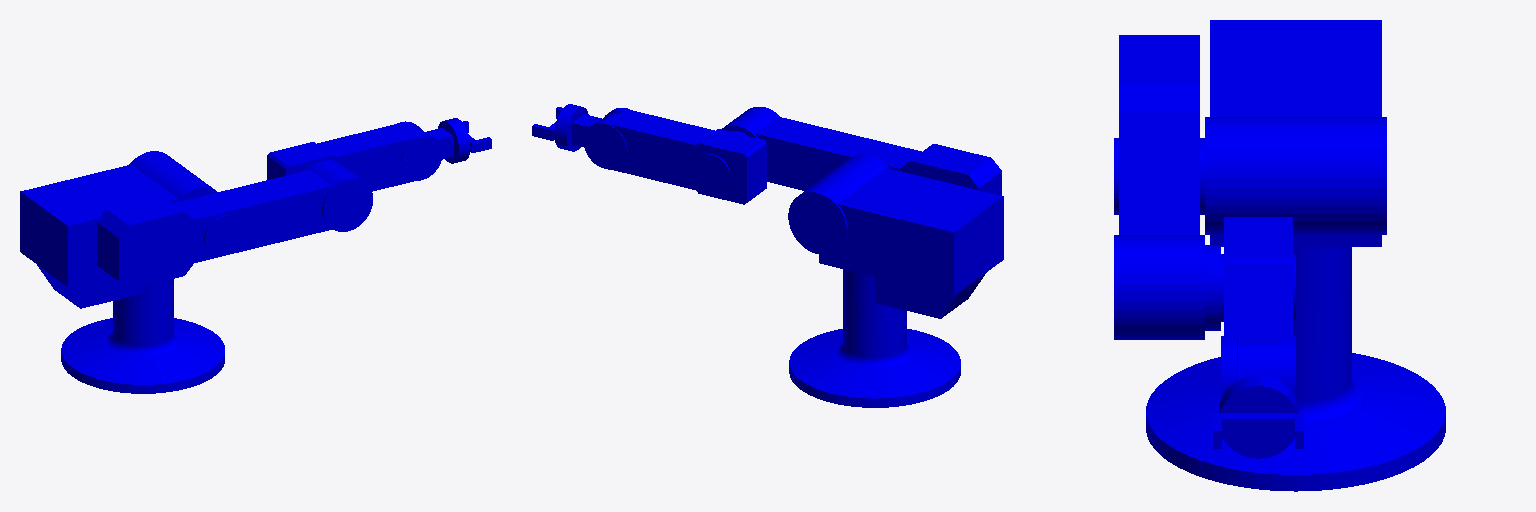
The robot description file, URDF, robot "ur_er9":
<?xml version="1.0" ?>
<!-- =================================================================================== -->
<!-- |    This document was autogenerated by xacro from [local-path]/er9-ros-workspace/src/ur_er9_support/er9.xacro | -->
<!-- |    EDITING THIS FILE BY HAND IS NOT RECOMMENDED                                 | -->
<!-- =================================================================================== -->
<robot name="ur_er9" xmlns:xacro="http://www.ros.org/wiki/xacro">
    <link name="base_link">
        <visual>
            <geometry>
                <mesh filename="package://ur_er9_support/meshes/visual/base.stl" />
            </geometry>
            <material name="">
                <color rgba="0 0 1 1" />
            </material>
            <origin rpy="0 0 0" xyz="0 0 0" />
        </visual>
        <collision>
            <geometry>
                <mesh filename="package://ur_er9_support/meshes/visual/base.stl" />
            </geometry>
            <origin rpy="0 0 0" xyz="0 0 0" />
        </collision>

<inertial>
            <mass value="0.1" />
            <inertia ixx="0.03" iyy="0.03" izz="0.03" ixy="0.0" ixz="0.0" iyz="0.0" />
        </inertial>

    </link>
    <link name="link1">
        <visual>
            <geometry>
                <mesh filename="package://ur_er9_support/meshes/visual/link1.stl" />
            </geometry>
            <material name="">
                <color rgba="0 0 1 1" />
            </material>
            <origin rpy="0 0 0" xyz="0 0 0" />
        </visual>
        <collision>
            <geometry>
                <mesh filename="package://ur_er9_support/meshes/visual/link1.stl" />
            </geometry>
            <origin rpy="0 0 0" xyz="0 0 0" />
        </collision>

<inertial>
            <mass value="0.1" />
            <inertia ixx="0.03" iyy="0.03" izz="0.03" ixy="0.0" ixz="0.0" iyz="0.0" />
        </inertial>

    </link>
    <joint name="joint1" type="revolute">
        <axis xyz="0 0 1" />
        <limit effort="1000.0" lower="-4.36332312999" upper="4.36332312999" velocity="1.0" />
        <origin rpy="0 0 0" xyz="0 0 0.174" />
        <parent link="base_link" />
        <child link="link1" />
    </joint>
    <link name="link2">
        <visual>
            <geometry>
                <mesh filename="package://ur_er9_support/meshes/visual/link2.stl" />
            </geometry>
            <material name="">
                <color rgba="0 0 1 1" />
            </material>
            <origin rpy="0 0 0" xyz="0 0 0" />
        </visual>
        <collision>
            <geometry>
                <mesh filename="package://ur_er9_support/meshes/visual/link2.stl" />
            </geometry>
            <origin rpy="0 0 0" xyz="0 0 0" />
        </collision>

<inertial>
            <mass value="0.1" />
            <inertia ixx="0.03" iyy="0.03" izz="0.03" ixy="0.0" ixz="0.0" iyz="0.0" />
        </inertial>

    </link>
    <joint name="joint2" type="revolute">
        <axis xyz="0 1 0" />
        <limit effort="1000.0" lower="-2.61799387799" upper="1.0471975512" velocity="1.0" />
        <origin rpy="0 0 0" xyz="0.07 -0.1 0.164" />
        <parent link="link1" />
        <child link="link2" />
    </joint>
    <link name="link3">
        <visual>
            <geometry>
                <mesh filename="package://ur_er9_support/meshes/visual/link3.stl" />
            </geometry>
            <material name="">
                <color rgba="0 0 1 1" />
            </material>
            <origin rpy="0 0 0" xyz="0 0 0" />
        </visual>
        <collision>
            <geometry>
                <mesh filename="package://ur_er9_support/meshes/visual/link3.stl" />
            </geometry>
            <origin rpy="0 0 0" xyz="0 0 0" />
        </collision>

<inertial>
            <mass value="0.1" />
            <inertia ixx="0.03" iyy="0.03" izz="0.03" ixy="0.0" ixz="0.0" iyz="0.0" />
        </inertial>

    </link>
    <joint name="joint3" type="revolute">
        <axis xyz="0 1 0" />
        <limit effort="1000.0" lower="-3.92699081699" upper="3.92699081699" velocity="1.0" />
        <origin rpy="0 0 0" xyz="0.290 0.018 0" />
        <parent link="link2" />
        <child link="link3" />
    </joint>
    <link name="link4">
        <visual>
            <geometry>
                <mesh filename="package://ur_er9_support/meshes/visual/link4.stl" />
            </geometry>
            <material name="">
                <color rgba="0 0 1 1" />
            </material>
            <origin rpy="0 0 0" xyz="0 0 0" />
        </visual>
        <collision>
            <geometry>
                <mesh filename="package://ur_er9_support/meshes/visual/link4.stl" />
            </geometry>
            <origin rpy="0 0 0" xyz="0 0 0" />
        </collision>

<inertial>
            <mass value="0.1" />
            <inertia ixx="0.03" iyy="0.03" izz="0.03" ixy="0.0" ixz="0.0" iyz="0.0" />
        </inertial>

    </link>
    <joint name="joint4" type="revolute">
        <axis xyz="0 1 0" />
        <limit effort="1000.0" lower="-3.14159265359" upper="3.14159265359" velocity="1.0" />
        <origin rpy="0 0 0" xyz="0.239 0.041 0" />
        <parent link="link3" />
        <child link="link4" />
    </joint>
    <link name="link5">
        <visual>
            <geometry>
                <mesh filename="package://ur_er9_support/meshes/visual/link5.stl" />
            </geometry>
            <material name="">
                <color rgba="0 0 1 1" />
            </material>
            <origin rpy="0 0 0" xyz="0 0 0" />
        </visual>
        <collision>
            <geometry>
                <mesh filename="package://ur_er9_support/meshes/visual/link5.stl" />
            </geometry>
            <origin rpy="0 0 0" xyz="0 0 0" />
        </collision>

<inertial>
            <mass value="0.1" />
            <inertia ixx="0.03" iyy="0.03" izz="0.03" ixy="0.0" ixz="0.0" iyz="0.0" />
        </inertial>

    </link>
    <joint name="joint5" type="revolute">
        <axis xyz="1 0 0" />
        <limit effort="1000.0" lower="-6.28318530718" upper="6.28318530718" velocity="1.0" />
        <origin rpy="0 0 0" xyz="0.111 0 0" />
        <parent link="link4" />
        <child link="link5" />
    </joint>
    <link name="tool0" />
    <link name="base" />
    <joint name="base_link-base" type="fixed">
        <origin rpy="0 0 0" xyz="0 0 0" />
        <parent link="base_link" />
        <child link="base" />
    </joint>
    <joint name="joint5-tool0" type="fixed">
        <origin rpy="0 0 0" xyz="0.045 0 0" />
        <parent link="link5" />
        <child link="tool0" />
    </joint>

<transmission name="trans_joint1">
        <type>transmission_interface/SimpleTransmission</type>
        <joint name="joint1">
            <hardwareInterface>hardware_interface/EffortJointInterface</hardwareInterface>
        </joint>
        <actuator name="joint1_motor">
            <hardwareInterface>hardware_interface/EffortJointInterface</hardwareInterface>
            <mechanicalReduction>1</mechanicalReduction>
        </actuator>
    </transmission>
    <transmission name="trans_joint2">
        <type>transmission_interface/SimpleTransmission</type>
        <joint name="joint2">
            <hardwareInterface>hardware_interface/EffortJointInterface</hardwareInterface>
        </joint>
        <actuator name="joint2_motor">
            <hardwareInterface>hardware_interface/EffortJointInterface</hardwareInterface>
            <mechanicalReduction>1</mechanicalReduction>
        </actuator>
    </transmission>
    <transmission name="trans_joint3">
        <type>transmission_interface/SimpleTransmission</type>
        <joint name="joint3">
            <hardwareInterface>hardware_interface/EffortJointInterface</hardwareInterface>
        </joint>
        <actuator name="joint3_motor">
            <hardwareInterface>hardware_interface/EffortJointInterface</hardwareInterface>
            <mechanicalReduction>1</mechanicalReduction>
        </actuator>
    </transmission>
    <transmission name="trans_joint4">
        <type>transmission_interface/SimpleTransmission</type>
        <joint name="joint4">
            <hardwareInterface>hardware_interface/EffortJointInterface</hardwareInterface>
        </joint>
        <actuator name="joint4_motor">
            <hardwareInterface>hardware_interface/EffortJointInterface</hardwareInterface>
            <mechanicalReduction>1</mechanicalReduction>
        </actuator>
    </transmission>
    <transmission name="trans_joint5">
        <type>transmission_interface/SimpleTransmission</type>
        <joint name="joint5">
            <hardwareInterface>hardware_interface/EffortJointInterface</hardwareInterface>
        </joint>
        <actuator name="joint5_motor">
            <hardwareInterface>hardware_interface/EffortJointInterface</hardwareInterface>
            <mechanicalReduction>1</mechanicalReduction>
        </actuator>
    </transmission>
    <gazebo>
        <plugin name="gazebo_ros_control" filename="libgazebo_ros_control.so">
            <robotNamespace>/</robotNamespace>
        </plugin>
    </gazebo>
</robot>

--- Render facts (derived) ---
The picture shows the robot from 3 angles, left to right: view 1: azimuth 30°, elevation 25°; view 2: azimuth 150°, elevation 25°; view 3: azimuth 270°, elevation 25°; orthographic projection.
Robot: ur_er9 — 8 links, 7 joints (5 revolute, 2 fixed); root link base_link; default pose: all joints at 0.
Links seen in each view (by area): view 1: link2, link1, base_link, link3, link4; view 2: link1, base_link, link3, link2, link4; view 3: link1, base_link, link2, link3, link4, link5.
Link boxes in pixels (x1,y1,x2,y2): link2: (97, 160, 372, 288); link1: (20, 151, 216, 308); base_link: (61, 282, 224, 393); link3: (267, 121, 442, 191); link4: (408, 118, 470, 163); link1: (788, 154, 1003, 318); base_link: (789, 291, 960, 407); link3: (584, 108, 766, 204); link2: (722, 107, 1001, 195); link4: (554, 104, 618, 151); link1: (1205, 20, 1386, 307); base_link: (1146, 285, 1445, 491); link2: (1114, 35, 1220, 339); link3: (1221, 217, 1295, 398); link4: (1219, 340, 1298, 458); link5: (1213, 413, 1303, 448).
Size in the robot's own frame: 0.985 by 0.3649 by 0.409 metres.
6 mesh visuals loaded from 6 distinct referenced files (6 binary STL).